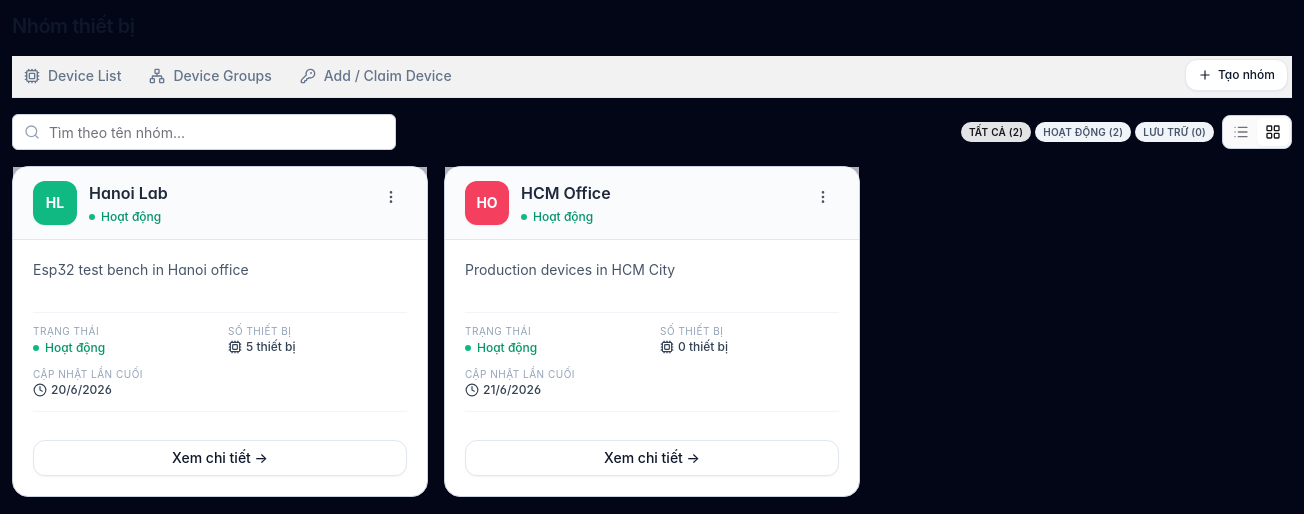
Test: ClientDeviceGroups page actions dropdown › disables Send command and Create OTA for empty groups
Expected: the heading "HCM Office" is shown, [521, 183, 611, 203]
# Open menu for the second row (HCM Office which has 0 devices)
Click the button named "Open device group actions" in the row of "HCM Office" at (823, 197), box [807, 181, 839, 213]
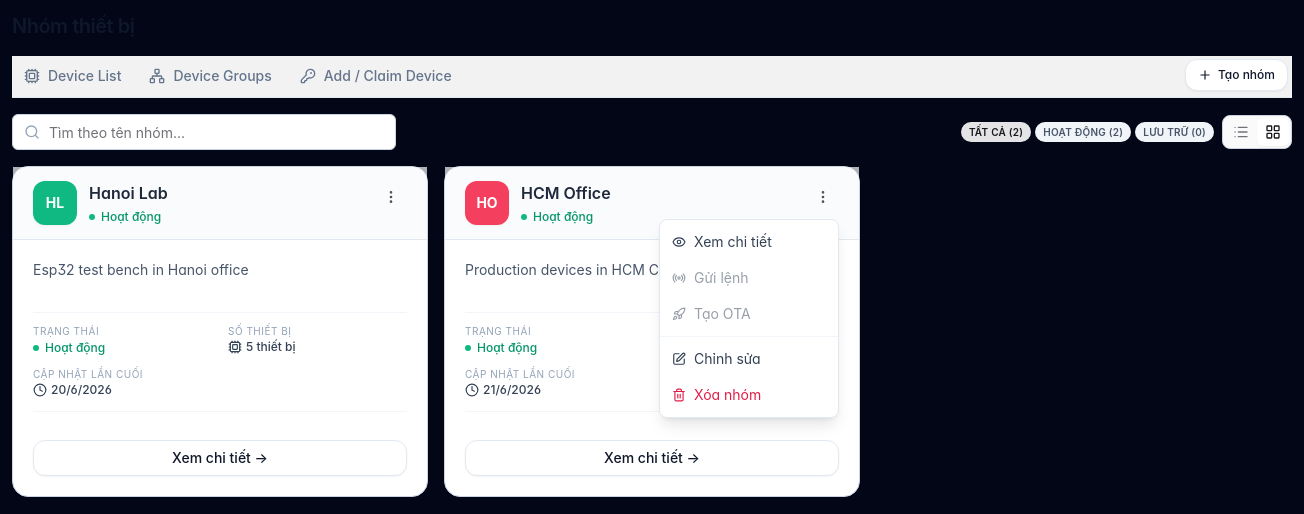
Expected: the menu item "Gửi lệnh" is disabled, [660, 260, 838, 296]
Expected: the menu item "Tạo OTA" is disabled, [660, 296, 838, 332]
